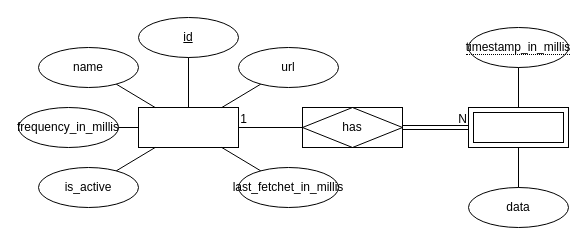
Some shapes in this 588 by 245 pixel diagram are drawn without their labels. The shapes that lost their labels are listed below. From the top down, each one's centre as x and y in pixels, then its label:
the point at 188,127: Provider
the point at 518,127: Raw Data
